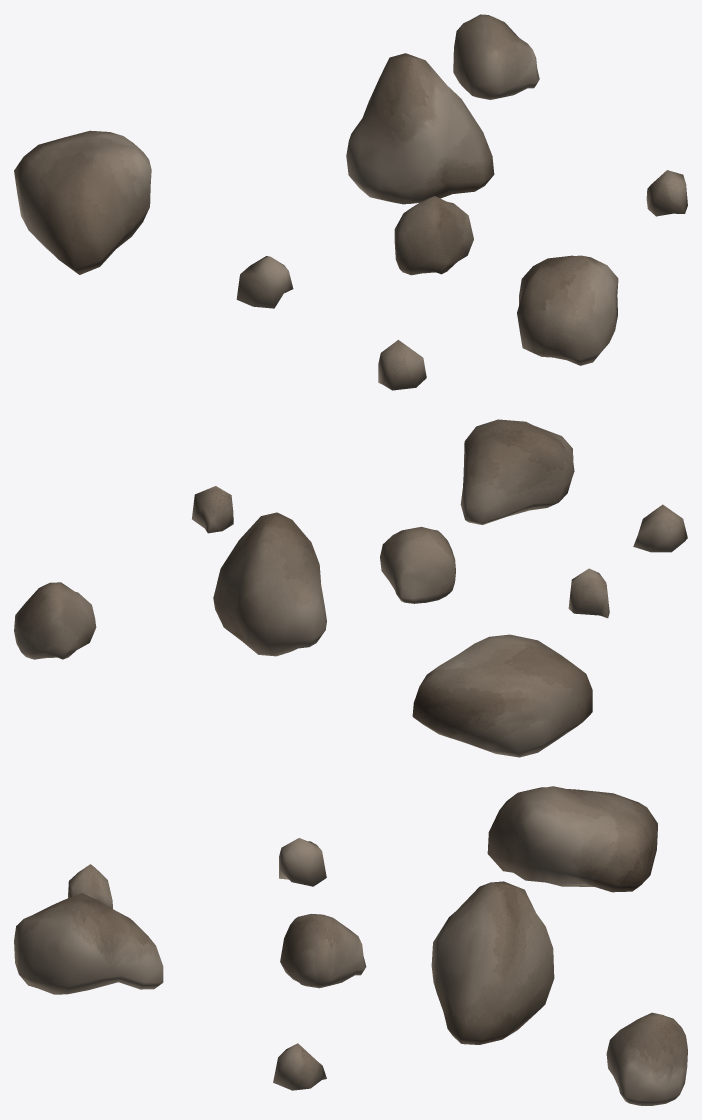
File: pebbles for terrain painting 1.fbx
3 views of the same model, one above another, from view 1: azimuth 30°, elevation 25°; view 2: azimuth 150°, elevation 25°; view 3: azimuth 270°, elevation 25° (orthographic). The views are drawn at different scales.
Parts seen in each view (by area): view 1: polySurface1; view 2: polySurface1; view 3: polySurface1.
Boxes of the visible parts, x1,y1,x2,y2 form: polySurface1: (14,14,687,390); polySurface1: (14,419,687,757); polySurface1: (14,786,687,1105).
Bounding box in the file's own units: 24.11 × 6.27 × 25.62.
